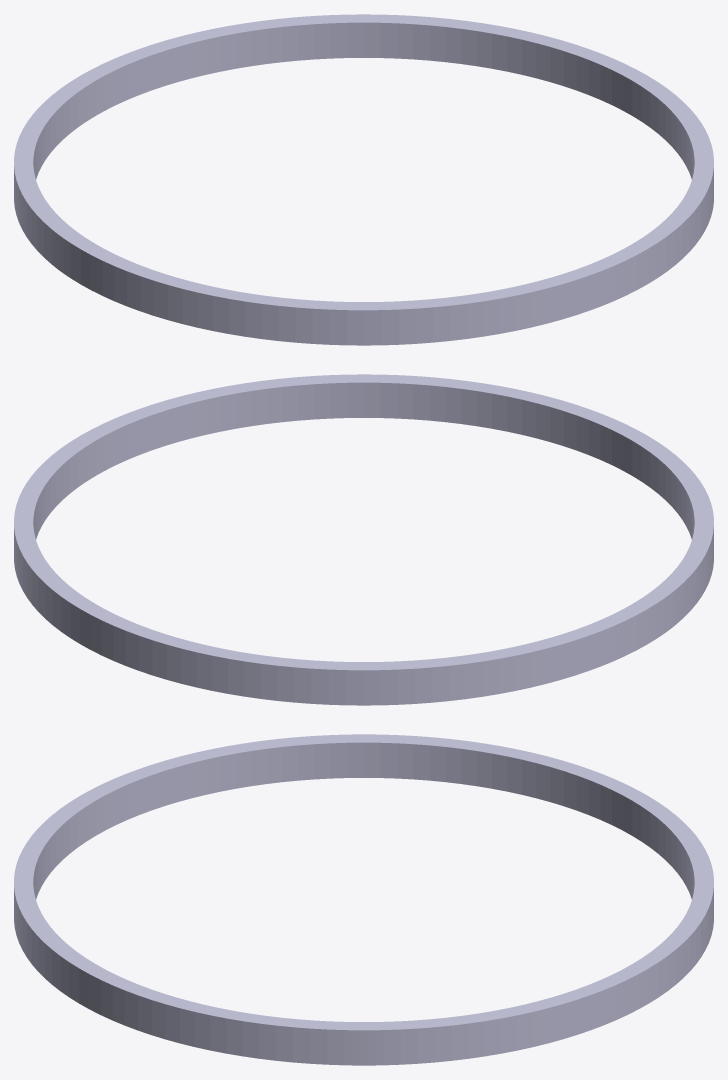
The model's file is mini_rocket_xy.dae.
3 renders of one model, top to bottom at view 1: azimuth 30°, elevation 25°; view 2: azimuth 150°, elevation 25°; view 3: azimuth 270°, elevation 25°, orthographic.
Parts seen in each view (by area): view 1: node0; view 2: node0; view 3: node0.
Part boxes in pixels (left/top/right/bottom): node0: left=14, top=14, right=713, bottom=345; node0: left=14, top=374, right=713, bottom=705; node0: left=14, top=734, right=713, bottom=1065.
Bounding box in the file's own units: 0.09 × 0.09 × 0.005.
